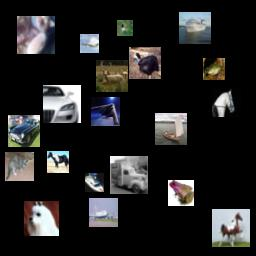airplane: (91, 97, 120, 126), (89, 198, 118, 227), (80, 34, 99, 53)
automobile: (43, 85, 81, 123), (8, 115, 40, 147)
bird: (129, 47, 161, 79), (117, 20, 133, 36)
cat: (17, 16, 55, 54), (5, 152, 34, 181)
deer: (96, 60, 128, 92)
dog: (24, 201, 59, 236)
frog: (168, 180, 194, 206), (203, 58, 225, 80)
ship: (179, 12, 211, 44), (155, 113, 187, 145), (85, 173, 104, 192)
truck: (110, 156, 148, 194)
